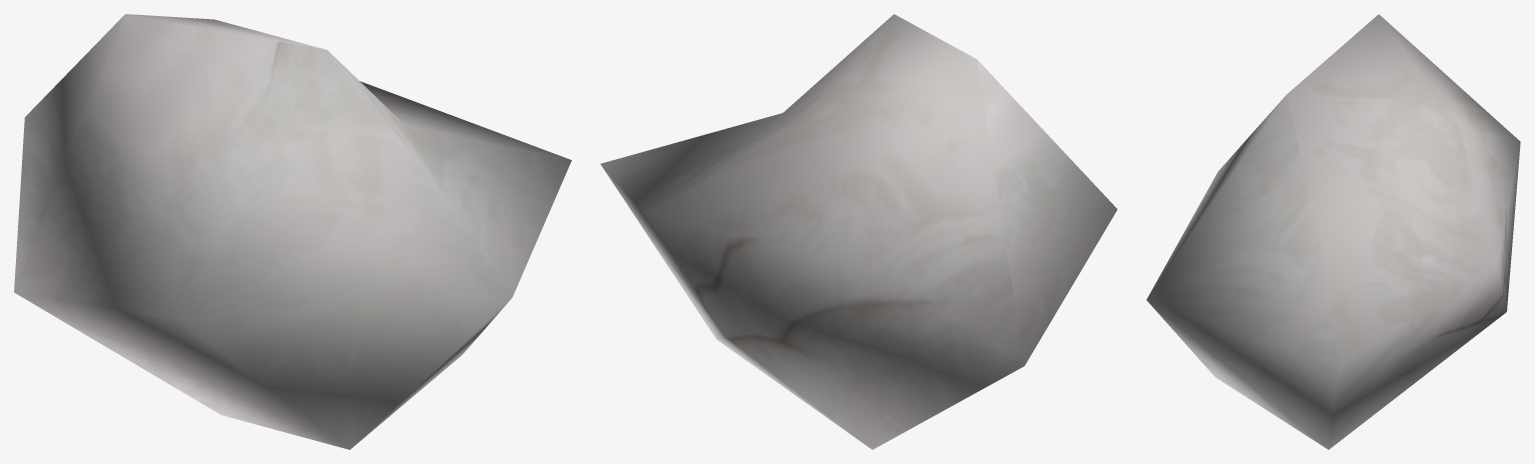
Rendered from Rock.FBX.
3 views of the same model, side by side, from view 1: azimuth 30°, elevation 25°; view 2: azimuth 150°, elevation 25°; view 3: azimuth 270°, elevation 25° (orthographic). The views are drawn at different scales.
Parts seen in each view (by area): view 1: Box003; view 2: Box003; view 3: Box003.
Part boxes in pixels (<box>): Box003: <box>14,14,571,449</box>; Box003: <box>600,14,1117,449</box>; Box003: <box>1146,14,1520,449</box>.
Size of the model in its own units: 80.84 by 66.32 by 64.8.
1 material, 1 textured.
